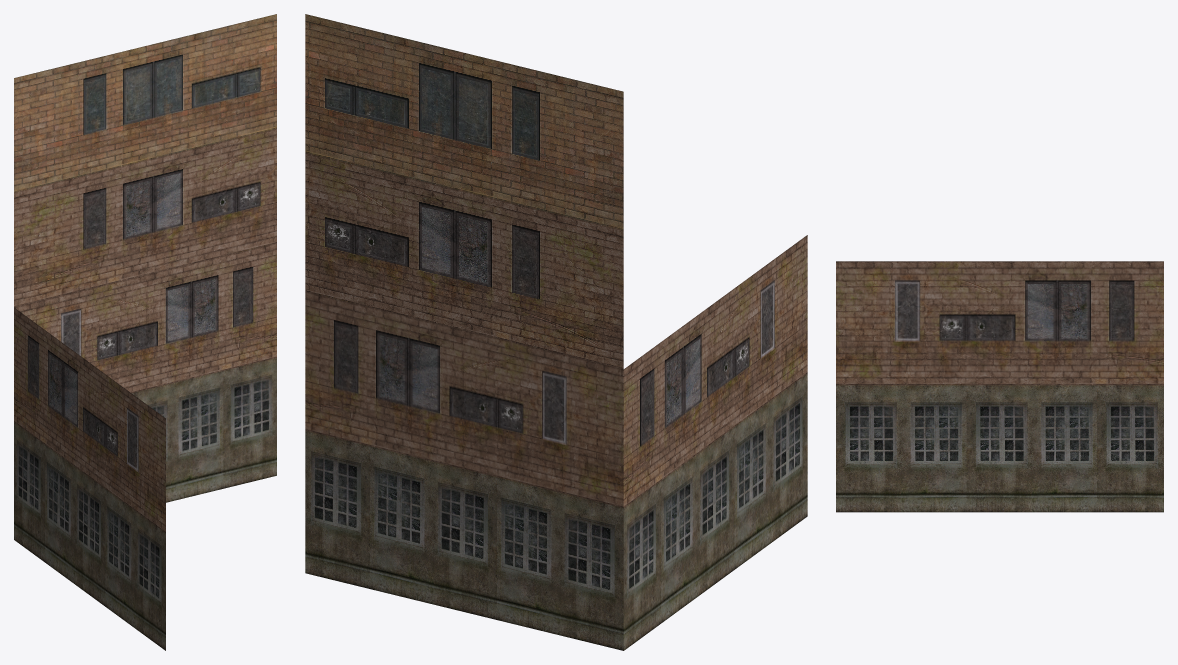
Rendered from Blocks_House_03.fbx.
The picture shows the model from 3 angles, left to right: view 1: azimuth 30°, elevation 25°; view 2: azimuth 150°, elevation 25°; view 3: azimuth 270°, elevation 25°; orthographic projection. The views are drawn at different scales.
Parts seen in each view (by area): view 1: Blocks_House_03_B, Blocks_House_03_A, Blocks_House_03_D, Blocks_House_03_C; view 2: Blocks_House_03_A, Blocks_House_03_B, Blocks_House_03_D, Blocks_House_03_C; view 3: Blocks_House_03_A, Blocks_House_03_B.
Part boxes in pixels (x1=…): Blocks_House_03_B: x1=14, y1=243, x2=276, y2=532; Blocks_House_03_A: x1=14, y1=358, x2=276, y2=650; Blocks_House_03_D: x1=14, y1=14, x2=276, y2=192; Blocks_House_03_C: x1=14, y1=128, x2=276, y2=307; Blocks_House_03_A: x1=305, y1=374, x2=807, y2=650; Blocks_House_03_B: x1=305, y1=235, x2=807, y2=507; Blocks_House_03_D: x1=305, y1=14, x2=623, y2=230; Blocks_House_03_C: x1=305, y1=153, x2=623, y2=369; Blocks_House_03_A: x1=836, y1=385, x2=1163, y2=512; Blocks_House_03_B: x1=836, y1=261, x2=1163, y2=385.
Size of the model in its own units: 700 by 1175 by 700.
